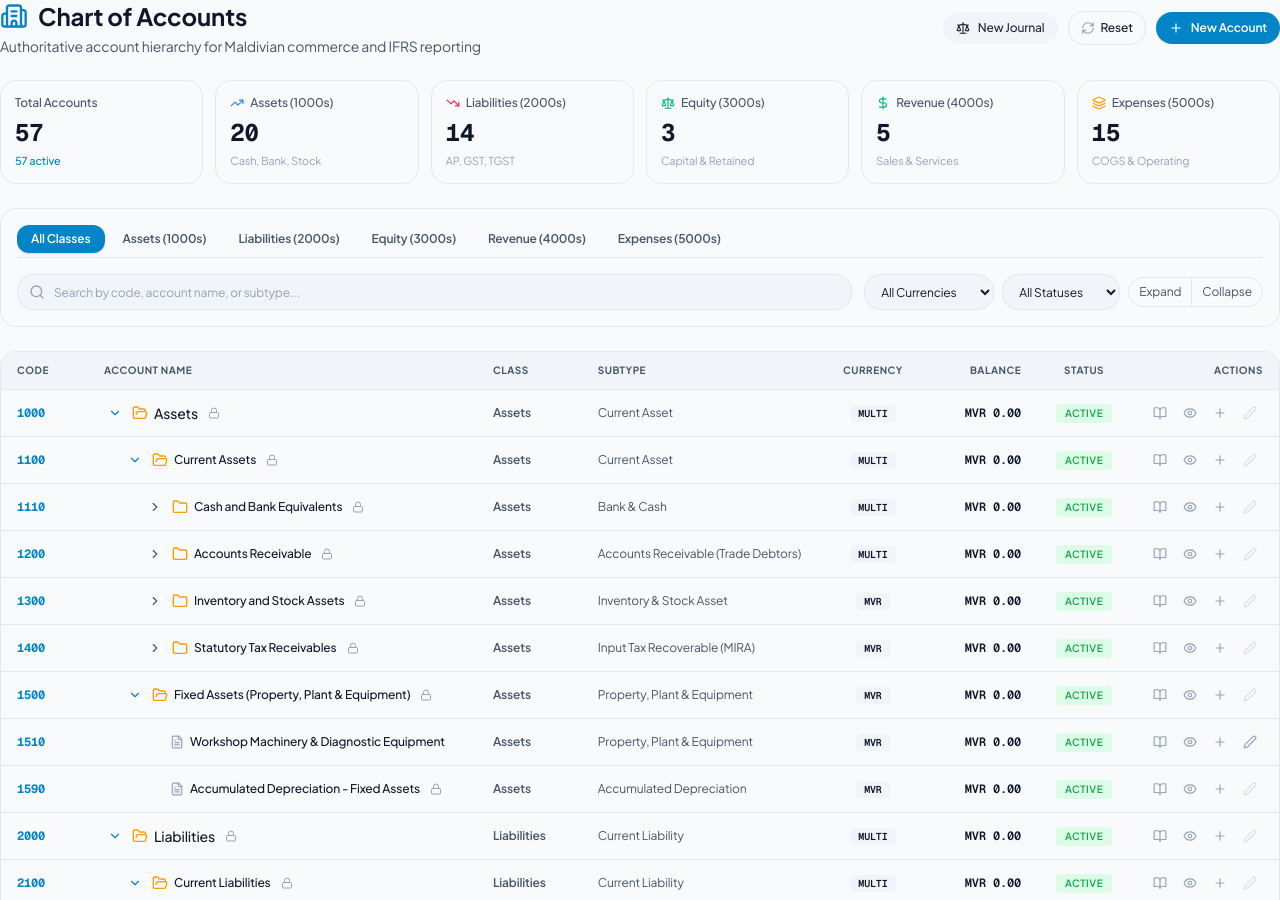
AccountsView Component & Interactions › prevents creating duplicate account codes with validation error message
Click the button with test id "add-account-btn": (1218, 28) [1156, 12, 1279, 44]
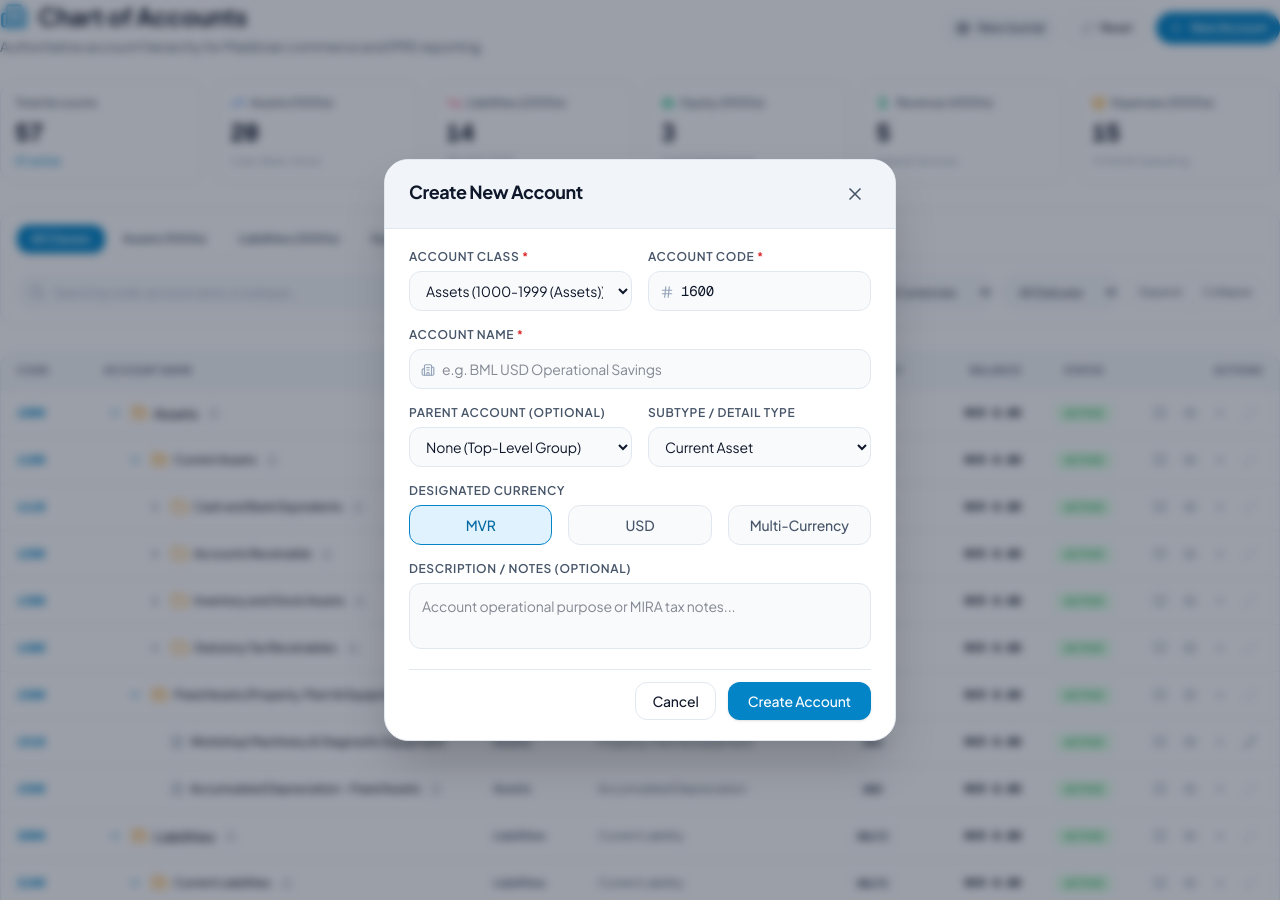
Note: Try using existing code 1111
In the field with placeholder "e.g. BML USD Operational Savings": (640, 369) [409, 349, 871, 389], type "Duplicate BML Account"
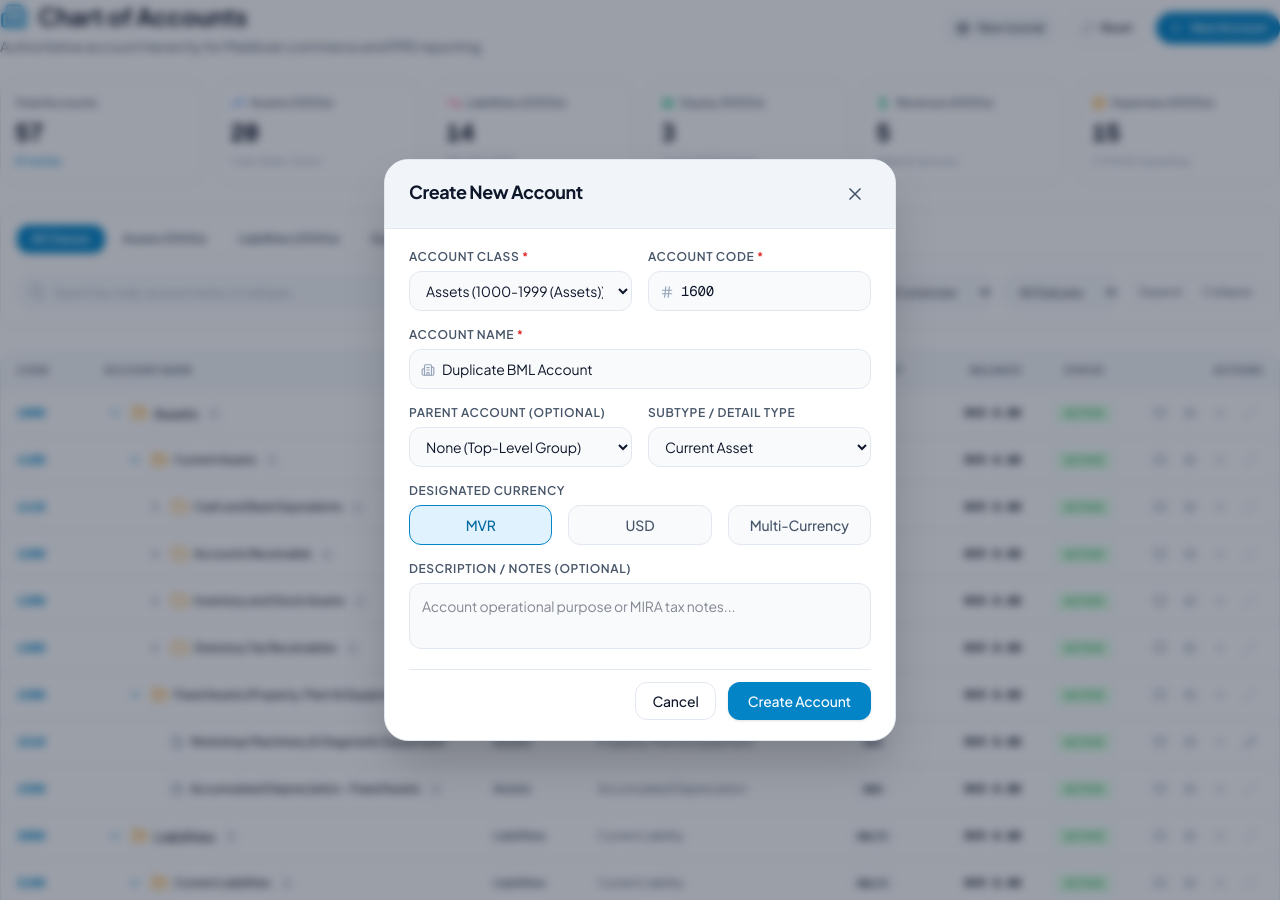
Replace the text in the field with placeholder "e.g. 1116" below "Account Code" with "1111": (760, 291) [648, 271, 871, 311]
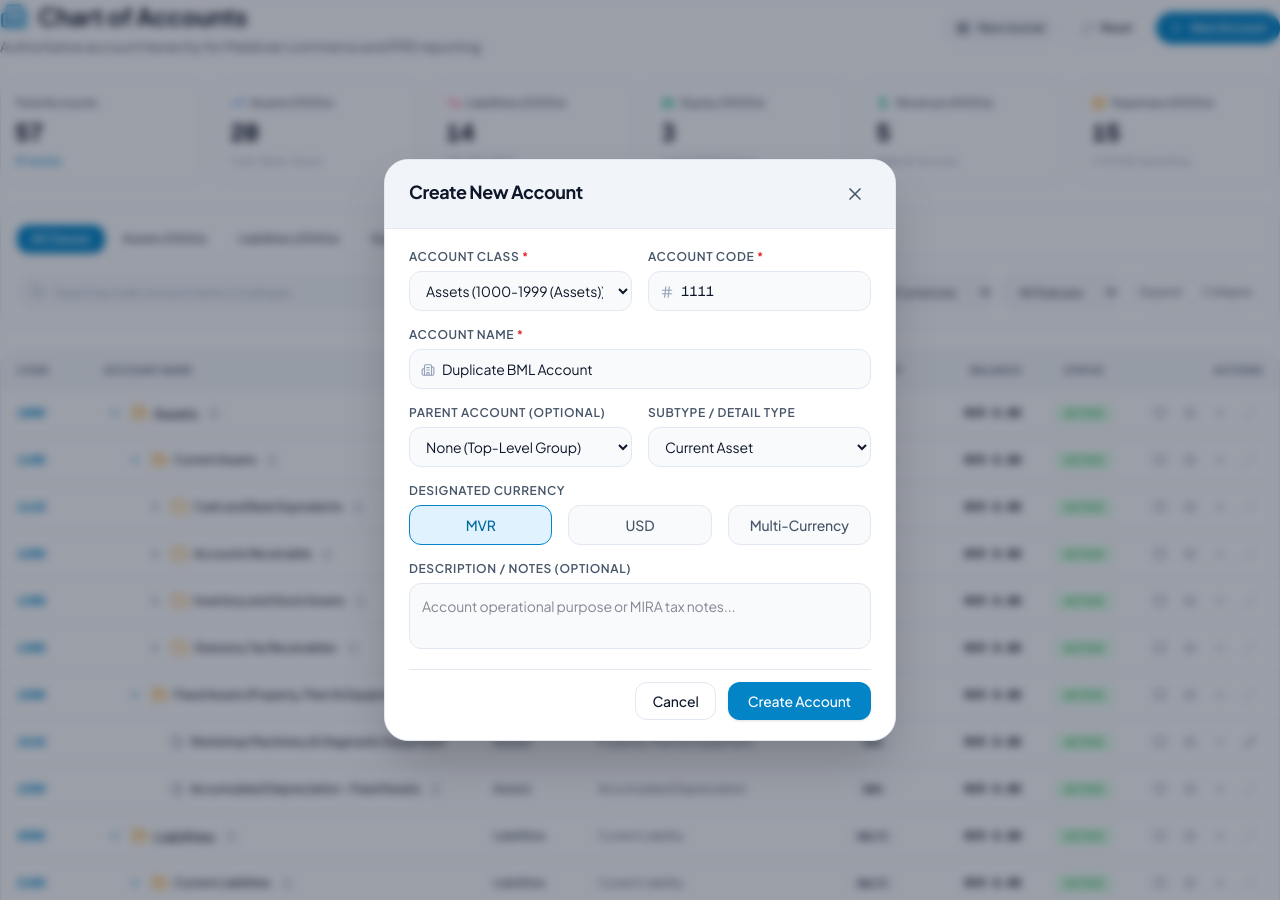
Click the button "Create Account": (799, 701) [728, 682, 871, 720]
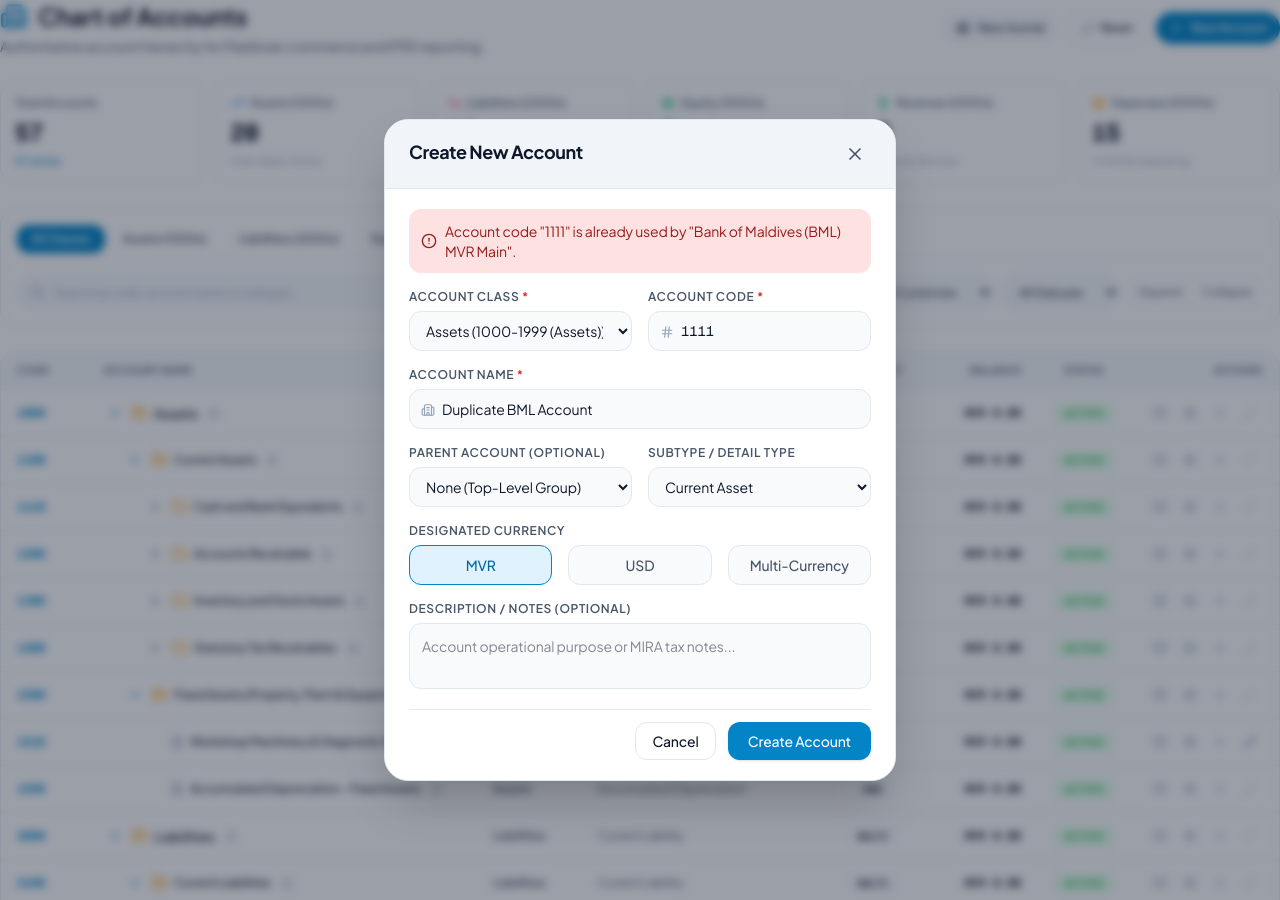
Expected: the text "Account code \"1111\" is already used by" is shown, [445, 222, 841, 260]
